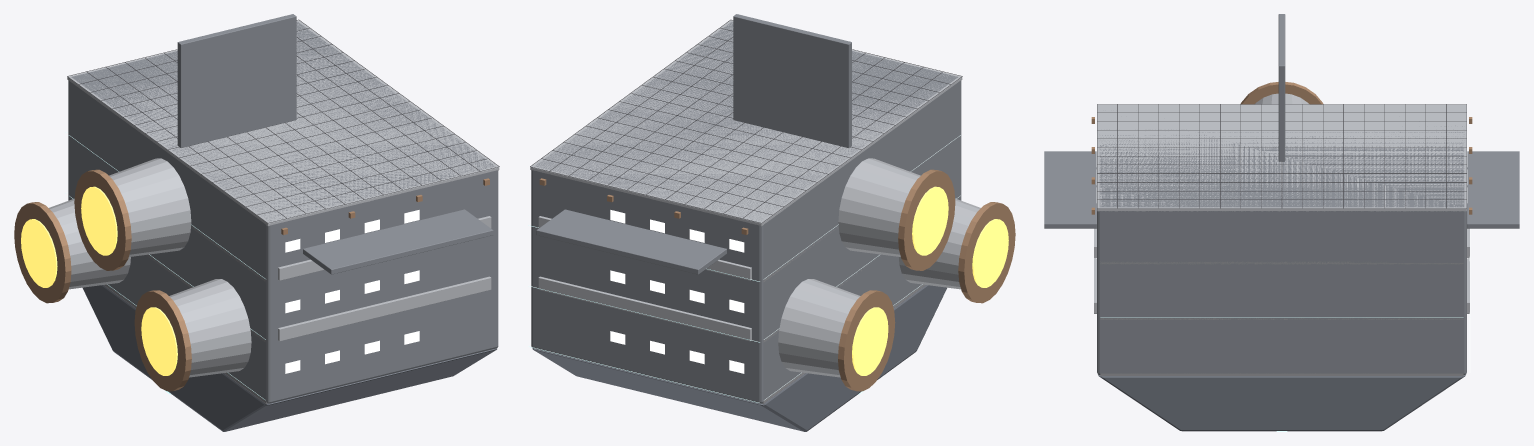
File: ship_stern_18x12.glb
The picture shows the model from 3 angles, left to right: view 1: azimuth 30°, elevation 25°; view 2: azimuth 150°, elevation 25°; view 3: azimuth 270°, elevation 25°; orthographic projection. The views are drawn at different scales.
Parts seen in each view (by area): view 1: ext_hull, ext_deck_top, ext_fin_top, ext_hull_belly, ext_deck_grid, ext_engine2, ext_engine0, ext_fins, ext_armor_plates, ext_engine_ring2, ext_engine_ring0, ext_engine_ring1 (+7 smaller); view 2: ext_hull, ext_deck_top, ext_fin_top, ext_hull_belly, ext_deck_grid, ext_engine1, ext_engine2, ext_fins, ext_armor_plates, ext_engine_ring2, ext_engine_ring0, ext_engine_ring1 (+7 smaller); view 3: ext_hull, ext_deck_top, ext_hull_belly, ext_fins, ext_deck_grid, ext_fin_top, int_deck0, ext_engine_ring2, int_deck2, int_deck1, ext_armor_plates.
Part boxes in pixels (bbox=[...]): ext_hull: bbox=[68, 21, 498, 403]; ext_deck_top: bbox=[67, 20, 499, 226]; ext_fin_top: bbox=[177, 14, 296, 147]; ext_hull_belly: bbox=[82, 285, 497, 431]; ext_deck_grid: bbox=[67, 19, 499, 223]; ext_engine2: bbox=[109, 158, 191, 256]; ext_engine0: bbox=[169, 279, 251, 377]; ext_fins: bbox=[303, 209, 493, 274]; ext_armor_plates: bbox=[278, 216, 491, 341]; ext_engine_ring2: bbox=[74, 169, 131, 270]; ext_engine_ring0: bbox=[134, 290, 191, 391]; ext_engine_ring1: bbox=[14, 202, 71, 303]; ext_hull: bbox=[531, 22, 961, 403]; ext_deck_top: bbox=[530, 20, 962, 226]; ext_fin_top: bbox=[733, 14, 851, 148]; ext_hull_belly: bbox=[532, 285, 946, 431]; ext_deck_grid: bbox=[530, 19, 962, 223]; ext_engine1: bbox=[778, 279, 860, 377]; ext_engine2: bbox=[838, 158, 920, 256]; ext_fins: bbox=[536, 209, 726, 274]; ext_armor_plates: bbox=[538, 216, 751, 341]; ext_engine_ring2: bbox=[898, 169, 955, 270]; ext_engine_ring0: bbox=[958, 202, 1015, 303]; ext_engine_ring1: bbox=[838, 290, 895, 391]; ext_hull: bbox=[1097, 125, 1466, 374]; ext_deck_top: bbox=[1097, 104, 1466, 211]; ext_hull_belly: bbox=[1098, 375, 1465, 431]; ext_fins: bbox=[1044, 151, 1519, 228]; ext_deck_grid: bbox=[1097, 104, 1466, 208]; ext_fin_top: bbox=[1278, 14, 1285, 161]; int_deck0: bbox=[1100, 373, 1463, 375]; ext_engine_ring2: bbox=[1240, 82, 1323, 104]; int_deck2: bbox=[1100, 261, 1463, 264]; int_deck1: bbox=[1100, 317, 1463, 319]; ext_armor_plates: bbox=[1094, 228, 1469, 313].
Size of the model in its own units: 15.57 by 17.14 by 23.14.
